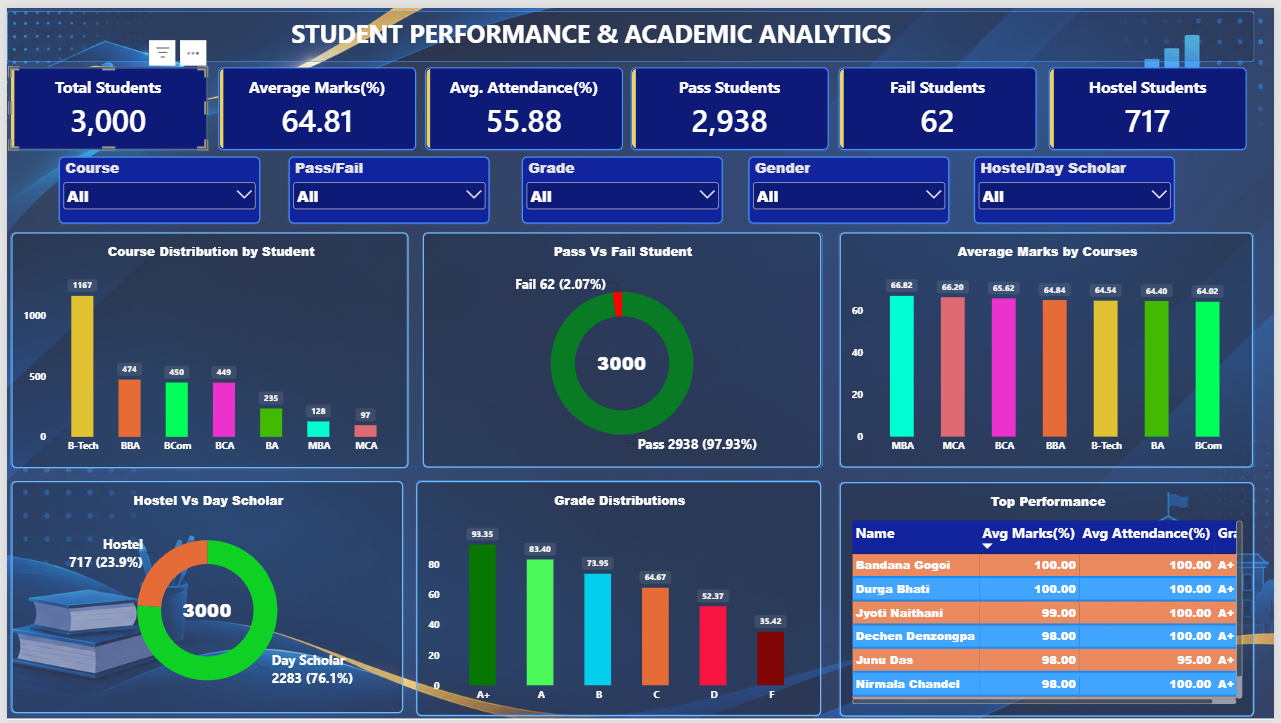

What the dashboard file says about the page in this screenshot:
{"tool":"powerbi","page":{"name":"Student_Performance_Dashboard","canvas":[1920,1080],"ordinal":0},"visuals":[{"type":"shape","box":[620,715,613.3,356.7],"z":0},{"type":"cardVisual","fields":{"Data":["Student_Analysis.Total_Student_Display"]},"box":[3.3,90,300,125],"z":1000},{"type":"shape","box":[0,5,1890,76.7],"z":2000},{"type":"textbox","box":[308.3,13.3,1153.3,61.7],"z":3000},{"type":"shape","box":[5,340,601.7,356.7],"z":4000},{"type":"cardVisual","fields":{"Data":["Avg(Student_Analysis.Marks(%))"]},"box":[320,90,300,125],"z":5000},{"type":"cardVisual","fields":{"Data":["Avg(Student_Analysis.Attendance(%))"]},"box":[633.3,90,300,125],"z":6000},{"type":"cardVisual","fields":{"Data":["Student_Analysis.Pass_Student_Display"]},"box":[945,90,300,125],"z":7000},{"type":"cardVisual","fields":{"Data":["Student_Analysis.Hostel Students"]},"box":[1578.3,90,300,125],"z":8000},{"type":"cardVisual","fields":{"Data":["Student_Analysis.Fail Students"]},"box":[1260,90,300,125],"z":9000},{"type":"slicer","fields":{"Values":["Student_Analysis.Course"]},"box":[78.3,225,305,101.7],"z":10000},{"type":"slicer","fields":{"Values":["Student_Analysis.Pass/Fail"]},"box":[426.7,225,305,101.7],"z":11000},{"type":"slicer","fields":{"Values":["Student_Analysis.Grade"]},"box":[780,225,305,101.7],"z":12000},{"type":"slicer","fields":{"Values":["Student_Analysis.Gender"]},"box":[1123.3,225,305,101.7],"z":13000},{"type":"slicer","fields":{"Values":["Student_Analysis.Hostel/Day Scholar"]},"box":[1465,225,305,101.7],"z":14000},{"type":"shape","box":[630,340,606.7,356.7],"z":15000},{"type":"shape","box":[1260,340,630,356.7],"z":16000},{"type":"clusteredColumnChart","title":"Course Distribution by Student","fields":{"Category":["Student_Analysis.Course"],"Y":["Student_Analysis.Total_Student"]},"box":[6.7,340,602,357],"z":17000},{"type":"donutChart","title":"Pass Vs Fail Student","fields":{"Category":["Student_Analysis.Pass/Fail"],"Y":["Student_Analysis.Total_Student"]},"box":[630,340,603.3,356.7],"z":18000},{"type":"clusteredColumnChart","title":"Average Marks by Courses","fields":{"Category":["Student_Analysis.Course"],"Y":["Avg(Student_Analysis.Marks(%))"]},"box":[1261.7,340,626.7,356.7],"z":19000},{"type":"shape","box":[5,716.7,595,351.7],"z":20000},{"type":"shape","box":[1260,718.3,628.3,355],"z":21000},{"type":"donutChart","title":"Hostel Vs Day Scholar","fields":{"Category":["Student_Analysis.Hostel/Day Scholar"],"Y":["Student_Analysis.Total_Student"]},"box":[6.7,716.7,593.3,351.7],"z":22000},{"type":"clusteredColumnChart","title":"Grade Distributions","fields":{"Category":["Student_Analysis.Grade"],"Y":["Avg(Student_Analysis.Marks(%))"]},"box":[620,716.7,613.3,356.7],"z":23000},{"type":"tableEx","title":"Top Performance ","fields":{"Values":["Student_Analysis.Name","Avg(Student_Analysis.Marks(%))","Avg(Student_Analysis.Attendance(%))","Student_Analysis.Grade"]},"box":[1261.7,718.3,628.3,355],"z":24500}]}

Visuals, with their boxes in screenshot pixels (x1, y1, x2, y2), scaled from the page's 1920x1080 canvas onto the 1281x723 screenshot:
shape: bbox(414, 479, 823, 717)
cardVisual - Student_Analysis.Total_Student_Display: bbox(2, 60, 202, 144)
shape: bbox(0, 3, 1261, 55)
textbox: bbox(206, 9, 975, 50)
shape: bbox(3, 228, 405, 466)
cardVisual - Avg(Student_Analysis.Marks(%)): bbox(214, 60, 414, 144)
cardVisual - Avg(Student_Analysis.Attendance(%)): bbox(423, 60, 623, 144)
cardVisual - Student_Analysis.Pass_Student_Display: bbox(630, 60, 831, 144)
cardVisual - Student_Analysis.Hostel Students: bbox(1053, 60, 1253, 144)
cardVisual - Student_Analysis.Fail Students: bbox(841, 60, 1041, 144)
slicer - Student_Analysis.Course: bbox(52, 151, 256, 219)
slicer - Student_Analysis.Pass/Fail: bbox(285, 151, 488, 219)
slicer - Student_Analysis.Grade: bbox(520, 151, 724, 219)
slicer - Student_Analysis.Gender: bbox(749, 151, 953, 219)
slicer - Student_Analysis.Hostel/Day Scholar: bbox(977, 151, 1181, 219)
shape: bbox(420, 228, 825, 466)
shape: bbox(841, 228, 1261, 466)
"Course Distribution by Student" clusteredColumnChart: bbox(4, 228, 406, 467)
"Pass Vs Fail Student" donutChart: bbox(420, 228, 823, 466)
"Average Marks by Courses" clusteredColumnChart: bbox(842, 228, 1260, 466)
shape: bbox(3, 480, 400, 715)
shape: bbox(841, 481, 1260, 719)
"Hostel Vs Day Scholar" donutChart: bbox(4, 480, 400, 715)
"Grade Distributions" clusteredColumnChart: bbox(414, 480, 823, 719)
"Top Performance " tableEx: bbox(842, 481, 1261, 719)
